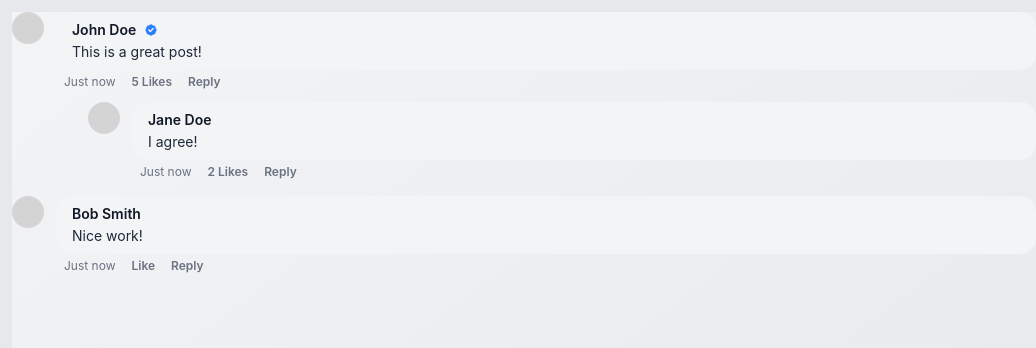
Test: CommentThread › toggles like state when like button is clicked
Click the button with aria-label "like comment".
click(152, 82)  # box [132,74,172,90]
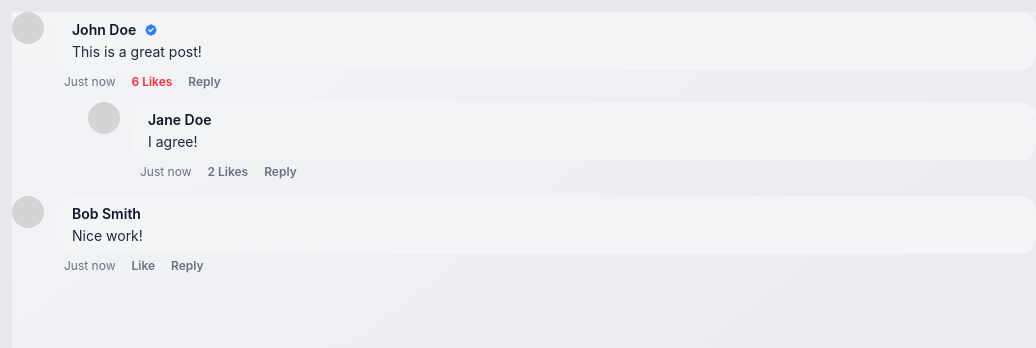
Now the button with aria-label "unlike comment" is shown, box [132,74,172,90]
